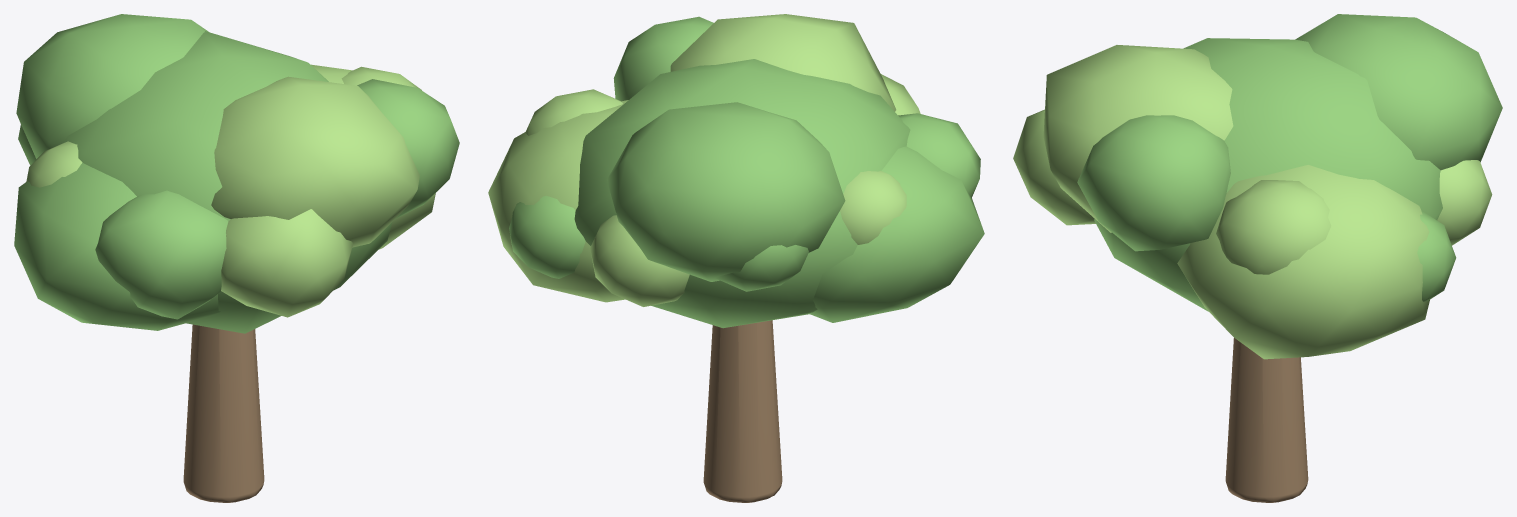
Rendered from olive_tree.fbx.
The picture shows the model from 3 angles, left to right: view 1: azimuth 30°, elevation 25°; view 2: azimuth 150°, elevation 25°; view 3: azimuth 270°, elevation 25°; orthographic projection. The views are drawn at different scales.
Parts seen in each view (by area): view 1: Visual; view 2: Visual; view 3: Visual.
Part boxes in pixels (x1,y1,x2,y2): Visual: (14, 14, 459, 502); Visual: (488, 14, 984, 502); Visual: (1013, 14, 1502, 502).
Size of what is drawn, in the model's own units: 369 by 357 by 354.
